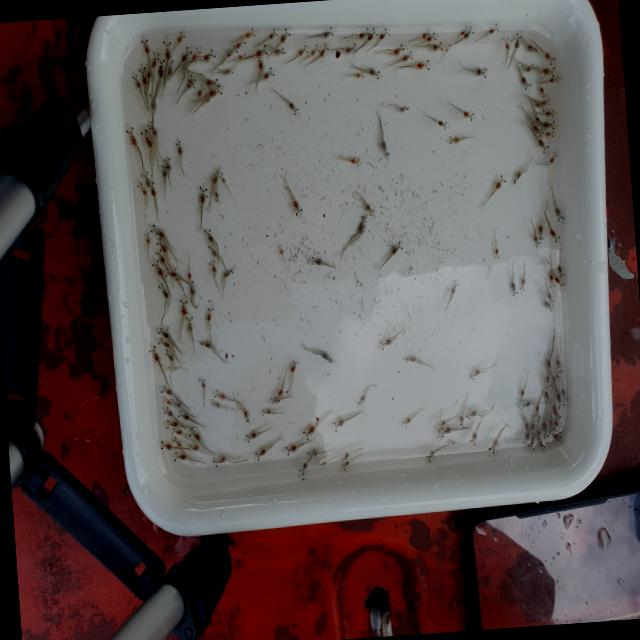babyshrimp: (139, 168, 154, 192), (139, 126, 154, 150), (124, 124, 138, 148), (155, 53, 165, 82), (149, 223, 166, 239), (388, 239, 405, 255), (301, 422, 315, 441), (146, 344, 160, 363), (550, 398, 560, 424), (207, 83, 223, 99), (290, 195, 302, 216), (211, 452, 226, 468), (157, 335, 173, 350), (378, 138, 390, 158), (278, 26, 291, 44), (357, 211, 366, 237), (554, 389, 565, 410), (535, 426, 546, 447), (197, 183, 208, 204), (154, 247, 166, 266), (155, 235, 167, 254), (435, 423, 451, 437), (150, 116, 158, 144), (224, 44, 238, 60), (535, 137, 549, 153), (202, 48, 215, 65), (152, 259, 164, 277), (539, 419, 549, 440), (284, 441, 298, 456), (205, 76, 219, 91), (495, 170, 506, 189), (415, 57, 431, 70), (559, 384, 571, 401), (169, 265, 181, 282), (147, 121, 155, 146), (165, 52, 173, 77), (157, 281, 168, 299), (184, 72, 195, 90), (190, 44, 201, 62), (356, 26, 370, 40), (550, 415, 563, 430), (332, 416, 345, 431), (244, 428, 257, 443), (322, 25, 335, 40), (461, 107, 476, 120), (319, 349, 332, 364), (487, 437, 499, 453), (263, 65, 275, 81), (513, 32, 524, 49), (378, 336, 392, 349), (253, 446, 266, 460), (541, 64, 555, 77), (147, 177, 156, 197), (150, 49, 159, 69), (180, 46, 192, 61), (365, 25, 377, 40), (548, 227, 560, 242), (363, 201, 375, 216), (137, 180, 148, 196), (163, 39, 171, 61), (175, 28, 186, 44), (289, 357, 300, 373), (162, 325, 172, 342), (554, 273, 564, 290), (549, 429, 562, 442), (306, 446, 319, 459), (173, 447, 186, 460), (243, 27, 256, 40), (367, 65, 380, 78), (272, 388, 284, 402), (188, 427, 200, 441), (162, 402, 174, 416), (544, 51, 556, 65), (308, 255, 322, 267), (213, 387, 227, 399), (297, 459, 308, 474), (130, 72, 141, 87), (378, 25, 389, 40), (520, 75, 531, 90), (554, 206, 565, 221), (545, 356, 554, 374), (178, 298, 187, 316), (139, 65, 146, 88), (145, 62, 152, 85), (536, 221, 544, 241), (186, 279, 196, 295), (550, 422, 562, 435), (177, 408, 190, 420), (164, 347, 176, 360), (430, 39, 443, 51), (463, 26, 475, 39), (474, 65, 487, 77), (487, 21, 500, 33), (531, 123, 543, 136), (169, 397, 183, 408), (235, 36, 246, 50), (297, 43, 308, 57), (348, 153, 359, 167), (211, 170, 222, 184), (173, 138, 182, 155), (140, 37, 149, 54), (450, 278, 459, 295), (467, 430, 477, 445), (317, 42, 327, 57), (207, 242, 217, 257), (204, 227, 214, 242), (521, 428, 530, 444), (554, 356, 563, 372), (435, 117, 447, 129), (469, 367, 480, 380), (424, 448, 435, 461), (160, 439, 173, 450), (160, 384, 173, 395), (156, 326, 169, 337), (343, 43, 356, 54), (392, 43, 405, 54), (400, 50, 413, 61), (541, 119, 555, 129), (534, 115, 544, 129), (509, 281, 519, 295), (532, 401, 540, 418), (163, 156, 171, 173), (549, 148, 557, 165), (310, 41, 319, 56), (205, 306, 214, 321), (419, 27, 430, 39), (424, 30, 436, 41), (534, 98, 545, 110), (542, 298, 553, 310), (464, 409, 477, 419), (172, 434, 182, 447), (268, 26, 278, 39), (272, 45, 285, 55), (538, 85, 548, 98), (523, 421, 531, 437), (197, 81, 205, 97), (548, 271, 556, 287), (185, 315, 193, 331), (528, 431, 535, 449), (205, 87, 214, 101), (512, 170, 521, 184), (208, 259, 217, 273), (544, 373, 552, 388), (164, 266, 176, 276), (160, 162, 168, 177), (556, 262, 564, 277), (554, 371, 561, 388), (181, 56, 188, 73), (166, 418, 179, 427), (186, 75, 195, 88), (289, 101, 298, 114), (213, 190, 222, 203), (403, 415, 411, 429), (242, 408, 250, 422), (518, 276, 526, 290), (199, 340, 213, 348), (260, 406, 271, 416), (188, 441, 199, 451), (161, 395, 172, 405), (448, 134, 459, 144), (524, 61, 534, 72), (548, 73, 559, 83), (210, 397, 221, 407), (437, 418, 446, 430), (170, 426, 182, 435), (217, 171, 226, 183), (528, 420, 535, 435), (518, 386, 525, 401), (533, 232, 540, 247), (542, 389, 550, 402), (434, 425, 442, 438), (546, 290, 554, 303), (150, 93, 156, 110), (258, 52, 264, 69), (544, 106, 554, 116), (223, 267, 233, 277), (340, 459, 349, 470), (318, 458, 327, 469), (269, 395, 280, 404), (444, 41, 453, 52), (460, 24, 469, 35), (539, 96, 550, 105), (457, 414, 464, 428), (502, 35, 509, 49), (547, 416, 553, 432), (404, 354, 416, 362), (144, 231, 151, 244), (356, 395, 365, 405), (340, 450, 349, 460), (223, 65, 233, 74), (236, 51, 246, 60), (354, 69, 364, 78), (186, 268, 192, 283), (398, 104, 409, 112), (198, 376, 206, 387), (521, 401, 530, 410), (545, 128, 554, 137), (527, 44, 538, 51), (276, 242, 283, 253), (493, 246, 499, 258), (166, 366, 177, 372), (552, 373, 556, 389), (220, 67, 228, 75), (447, 438, 455, 444), (438, 118, 444, 120)
